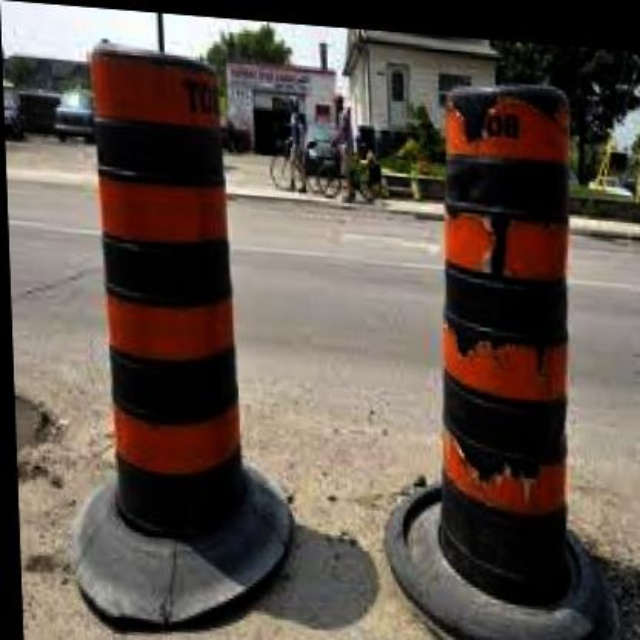obstacle: (417, 64, 593, 598), (93, 41, 237, 541)
